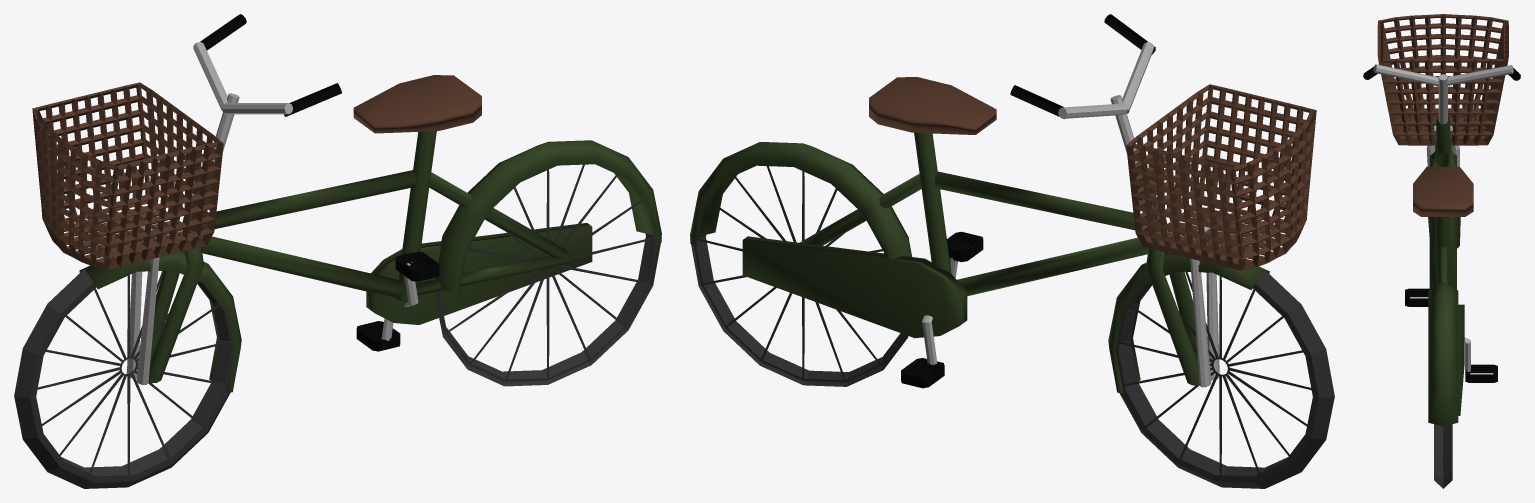
The model's file is 自転車.fbx.
3 views of the same model, side by side, from view 1: azimuth 30°, elevation 25°; view 2: azimuth 150°, elevation 25°; view 3: azimuth 270°, elevation 25° (orthographic). The views are drawn at different scales.
Visible parts, largest first — view 1: Cube.004, Cylinder.006, Cube, Cylinder.009; view 2: Cube.004, Cylinder.006, Cube, Cylinder.009; view 3: Cube.004, Cylinder.006, Cube, Cylinder.009.
Part boxes in pixels (x1,y1,x2,y2): Cube.004: (14,14,660,488); Cylinder.006: (79,131,661,392); Cube: (353,75,481,133); Cylinder.009: (126,220,159,384); Cube.004: (690,14,1334,488); Cylinder.006: (690,133,1269,392); Cube: (869,77,996,134); Cylinder.009: (1190,221,1219,387); Cube.004: (1363,14,1520,488); Cylinder.006: (1428,117,1464,426); Cube: (1413,166,1473,216); Cylinder.009: (1427,125,1459,166).
Size of the model in its own units: 1250 by 738 by 340.
